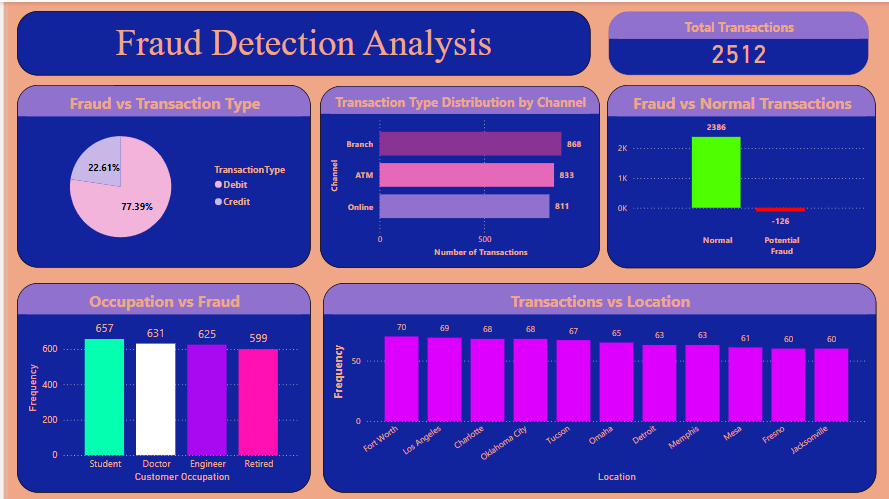

The dashboard page shown, as its layout file describes it:
{"tool":"powerbi","page":{"name":"Page 1","canvas":[1280,720],"ordinal":0},"visuals":[{"type":"textbox","box":[12.8,12.8,825.6,93],"z":0},{"type":"pieChart","title":"Fraud vs Transaction Type","fields":{"Y":["CountNonNull(revised_dataset.AnomalyLabel)"],"Category":["revised_dataset.TransactionType"]},"box":[12.3,119.4,423,263.5],"z":1000},{"type":"clusteredColumnChart","title":"Occupation vs Fraud","fields":{"Category":["revised_dataset.CustomerOccupation"],"Y":["CountNonNull(revised_dataset.AnomalyLabel)"]},"box":[12.3,404.8,422.6,301.9],"z":2000},{"type":"card","title":"Total Transactions","fields":{"Values":["Count(revised_dataset.TransactionID)"]},"box":[863.3,12.4,375.7,93.3],"z":3000},{"type":"columnChart","title":"Fraud vs Normal Transactions","fields":{"Category":["revised_dataset.AnomalyLabel"],"Y":["Sum(revised_dataset.IsAnomaly)"]},"box":[862.8,119.8,387.2,264],"z":4000},{"type":"columnChart","title":"Transactions vs Location","fields":{"Y":["CountNonNull(revised_dataset.AnomalyLabel)"],"Category":["revised_dataset.Location"]},"box":[453.5,404.7,796.5,302.3],"z":5000},{"type":"clusteredBarChart","title":"Transaction Type Distribution by Channel","fields":{"Category":["revised_dataset.Channel"],"Y":["CountNonNull(revised_dataset.TransactionID)"]},"box":[449.1,120.7,403,262.5],"z":6000}]}

Visuals, with their boxes in screenshot pixels (x1, y1, x2, y2), scaled from the page's 1280x720 canvas onto the 889x499 screenshot:
textbox: [x1=9, y1=9, x2=582, y2=73]
"Fraud vs Transaction Type" pieChart: [x1=9, y1=83, x2=302, y2=265]
"Occupation vs Fraud" clusteredColumnChart: [x1=9, y1=281, x2=302, y2=490]
"Total Transactions" card: [x1=600, y1=9, x2=861, y2=73]
"Fraud vs Normal Transactions" columnChart: [x1=599, y1=83, x2=868, y2=266]
"Transactions vs Location" columnChart: [x1=315, y1=280, x2=868, y2=490]
"Transaction Type Distribution by Channel" clusteredBarChart: [x1=312, y1=84, x2=592, y2=266]
